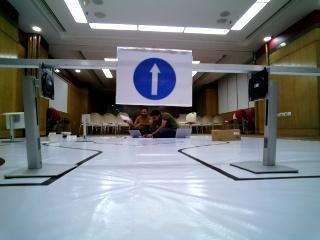straight: (116, 47, 193, 102)
